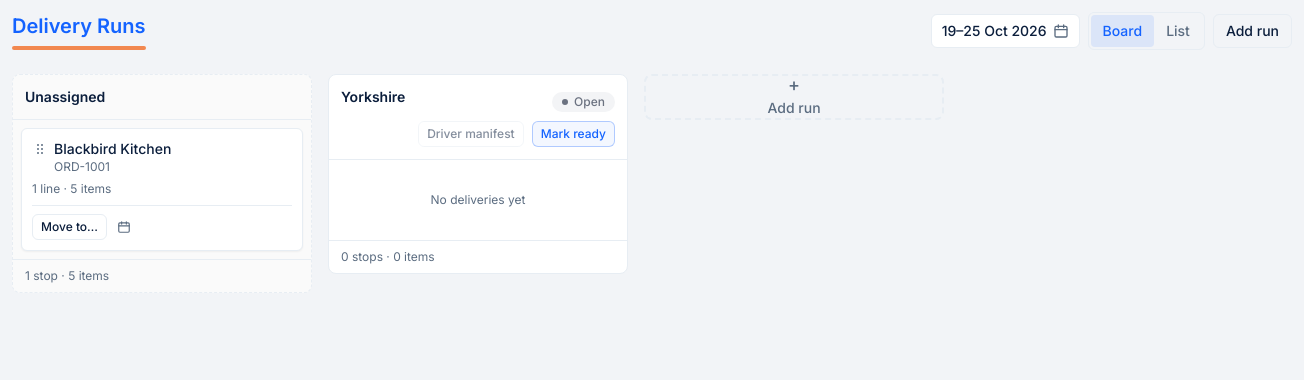
Test: DeliveryRunsPage — mutation flow › on 422, shows the server-provided detail and refetches
This screenshot has width=1304, height=380.
Expected: the element with test id "board-view" is shown, 12,74 -> 944,293
Click the button "Move to…" at (70, 227), box 32,214 -> 107,240
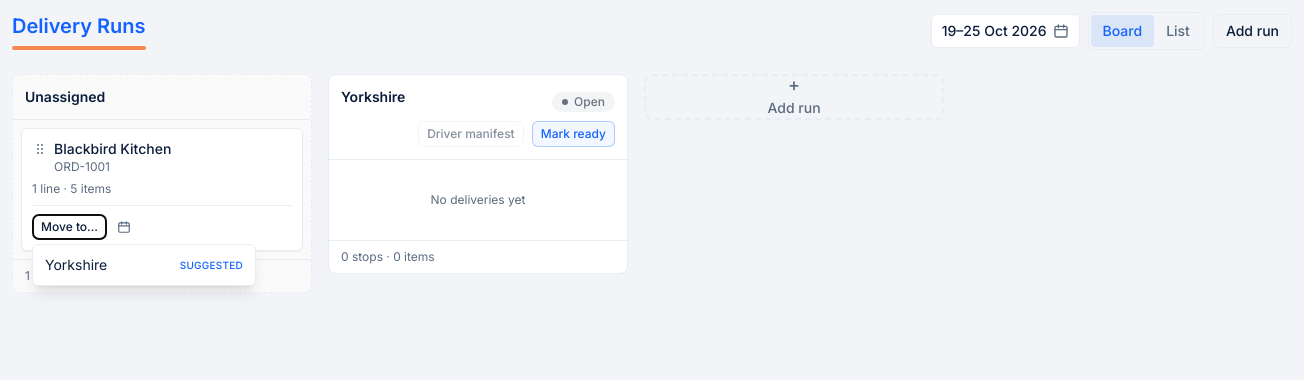
Click the menu item "Yorkshire Suggested" at (144, 265), box 33,249 -> 255,281
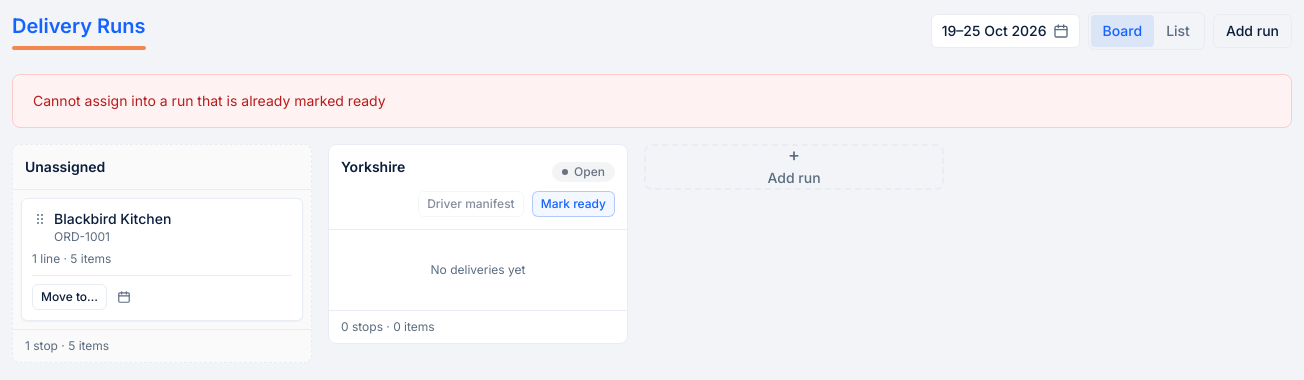
Expected: the text "Cannot assign into a run that is already marked ready" is shown, 12,74 -> 1292,128
